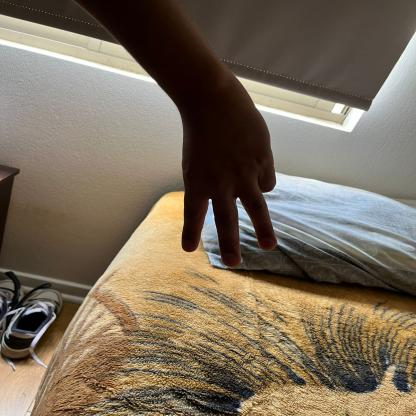M: (166, 80, 282, 268)
